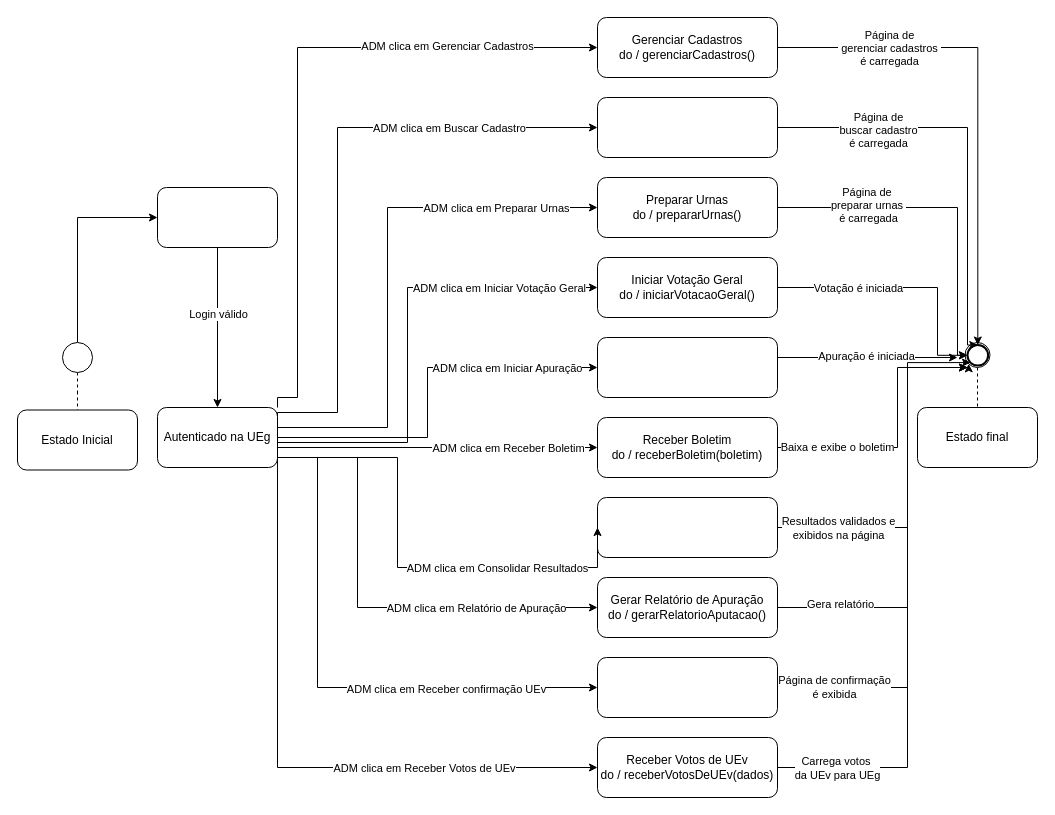
This 1055x815 diagram has some shape labels left out. The centre of each missing label's shape, as x and y in pixels:
Buscar Cadastro do / buscarCadastro(criterio): pixel 687 127
Consolidar Resultados do / consolidarResultados(): pixel 687 527
Desconectado da Ueg: pixel 217 217
Iniciar Apuração do / iniciarApuração: pixel 687 367
Receber confirmação UEv do / receberConfirmacaoUEv(status): pixel 687 687
